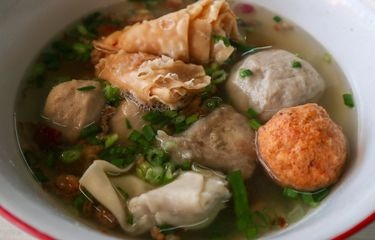bakso_malang: (14, 1, 358, 240)
